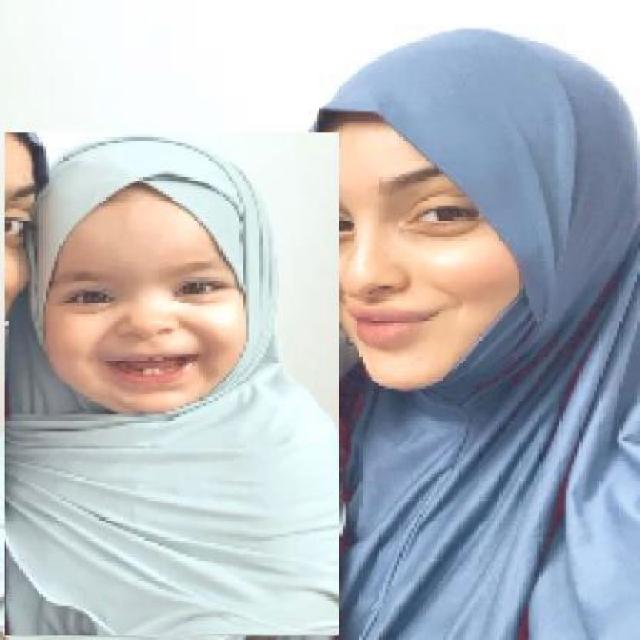child: (3, 132, 340, 637)
